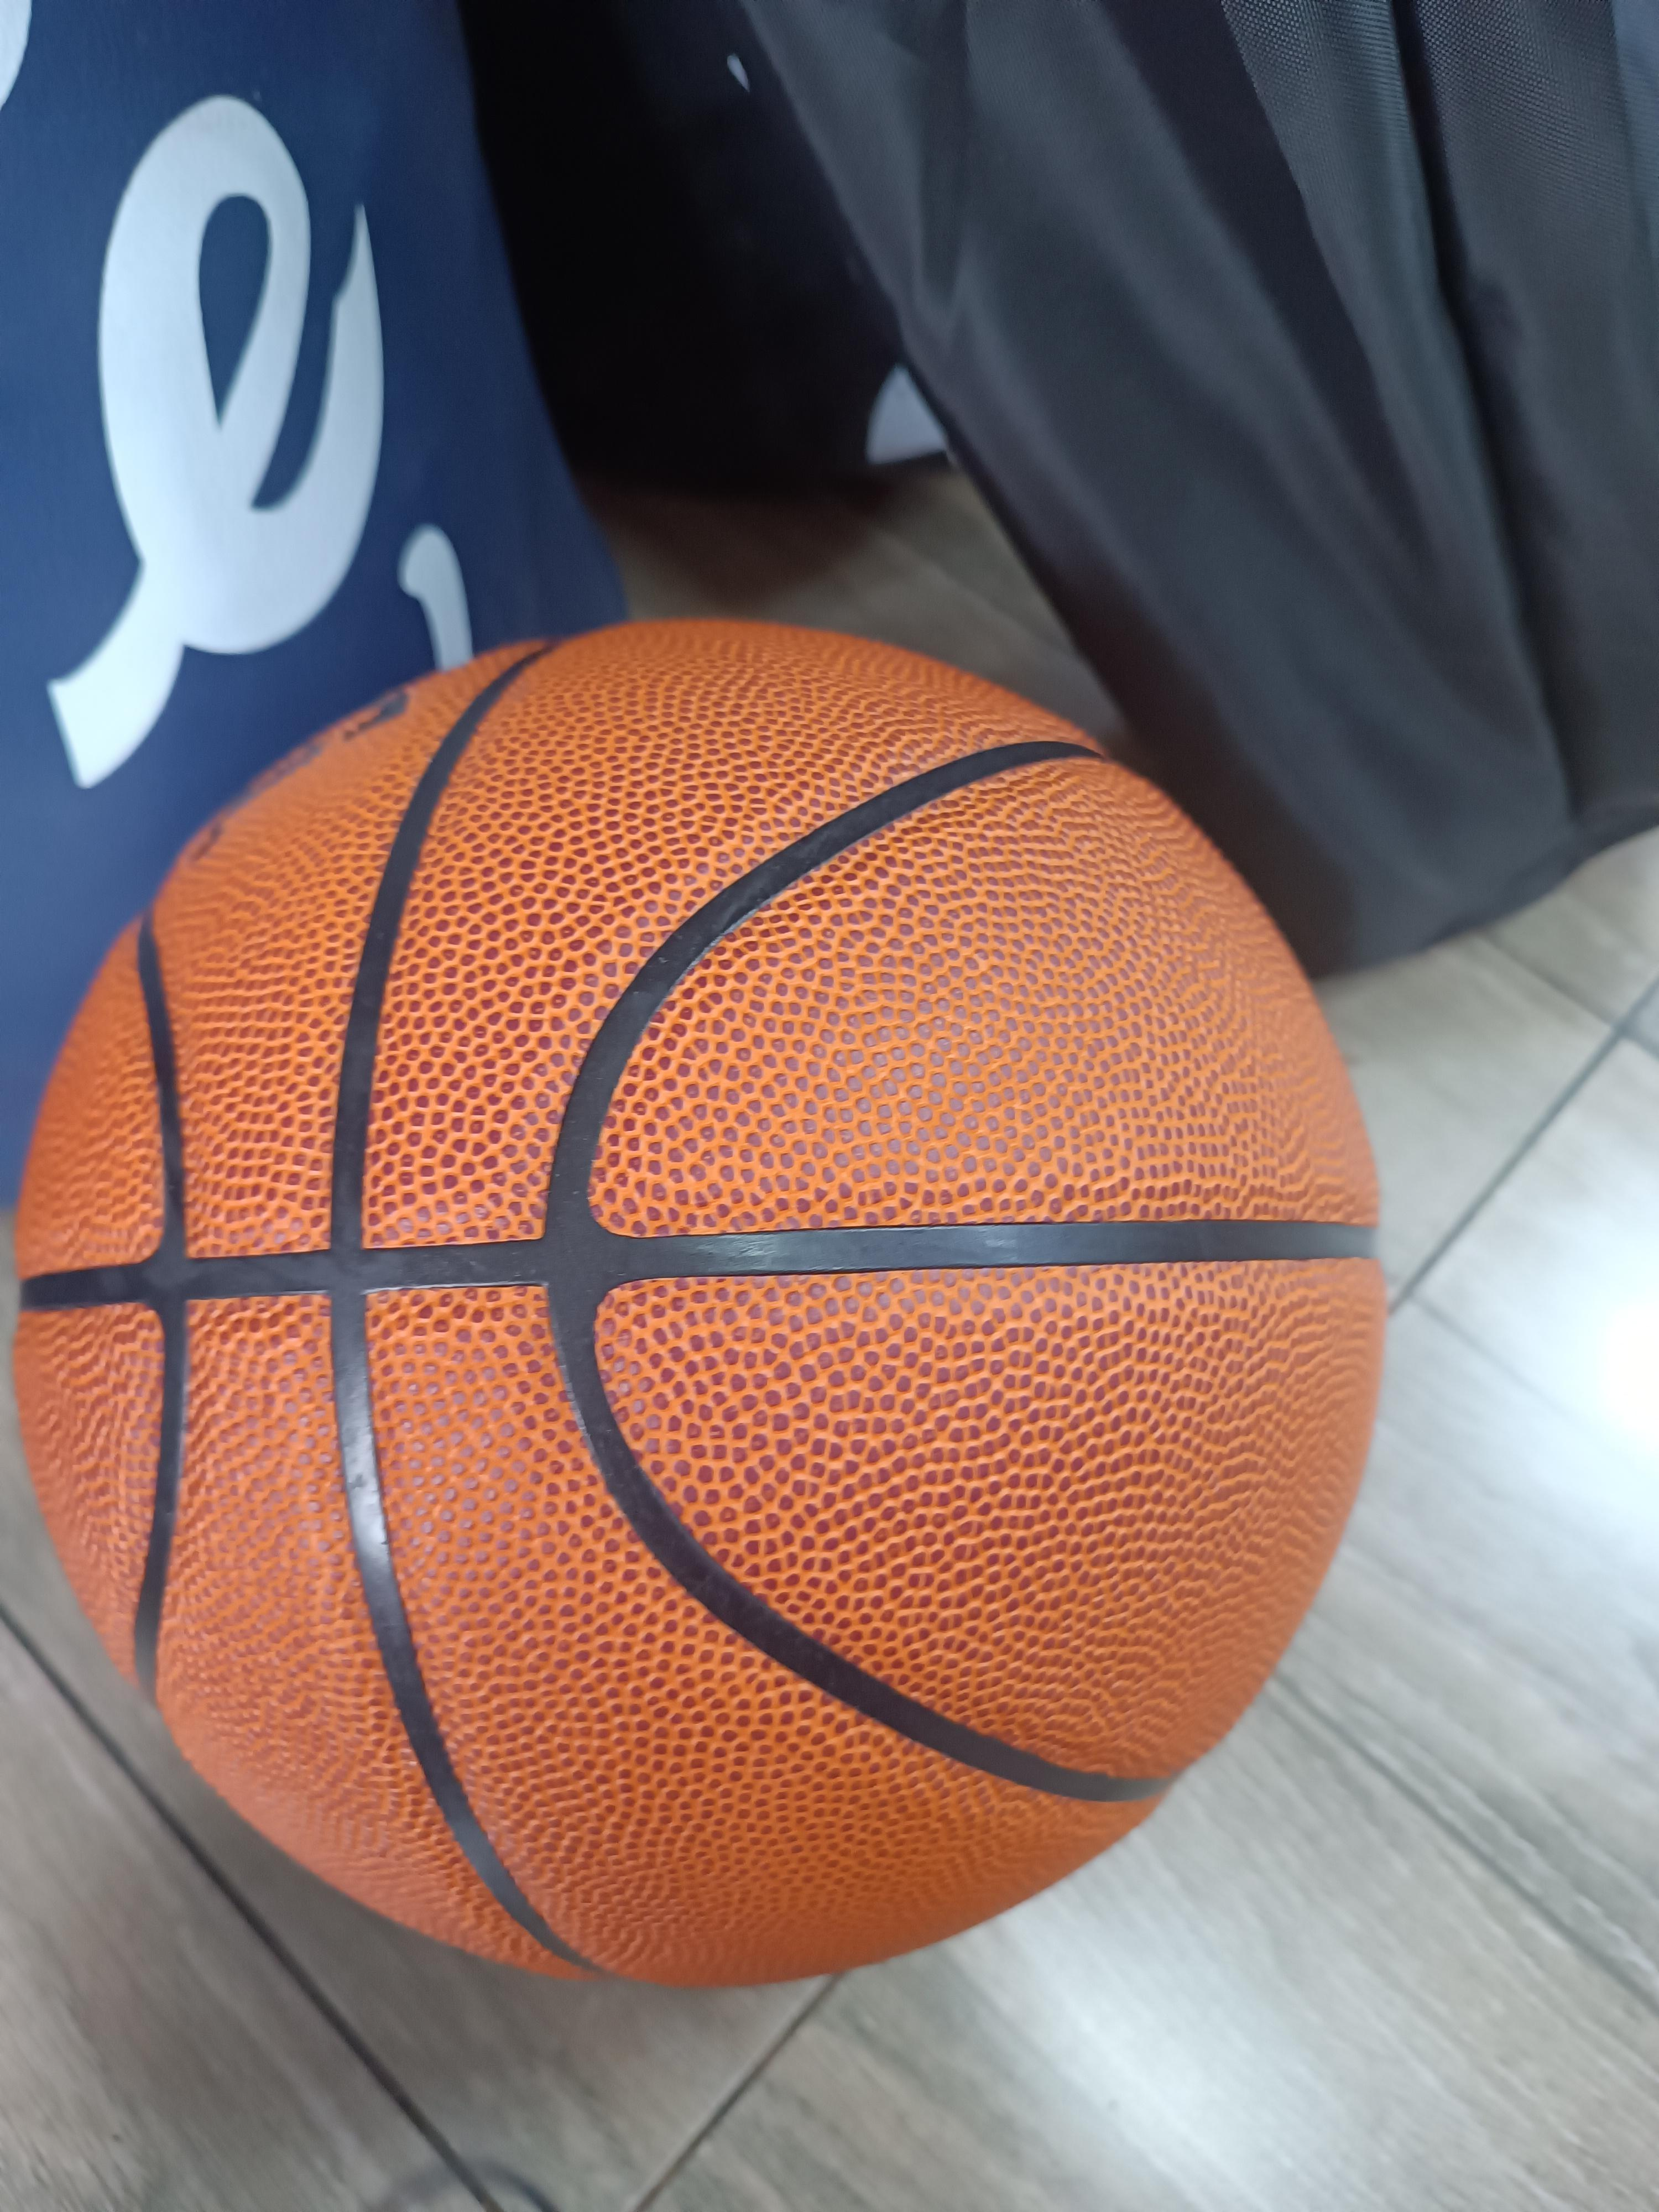Sports-Ball: (17, 622, 1383, 1983)
